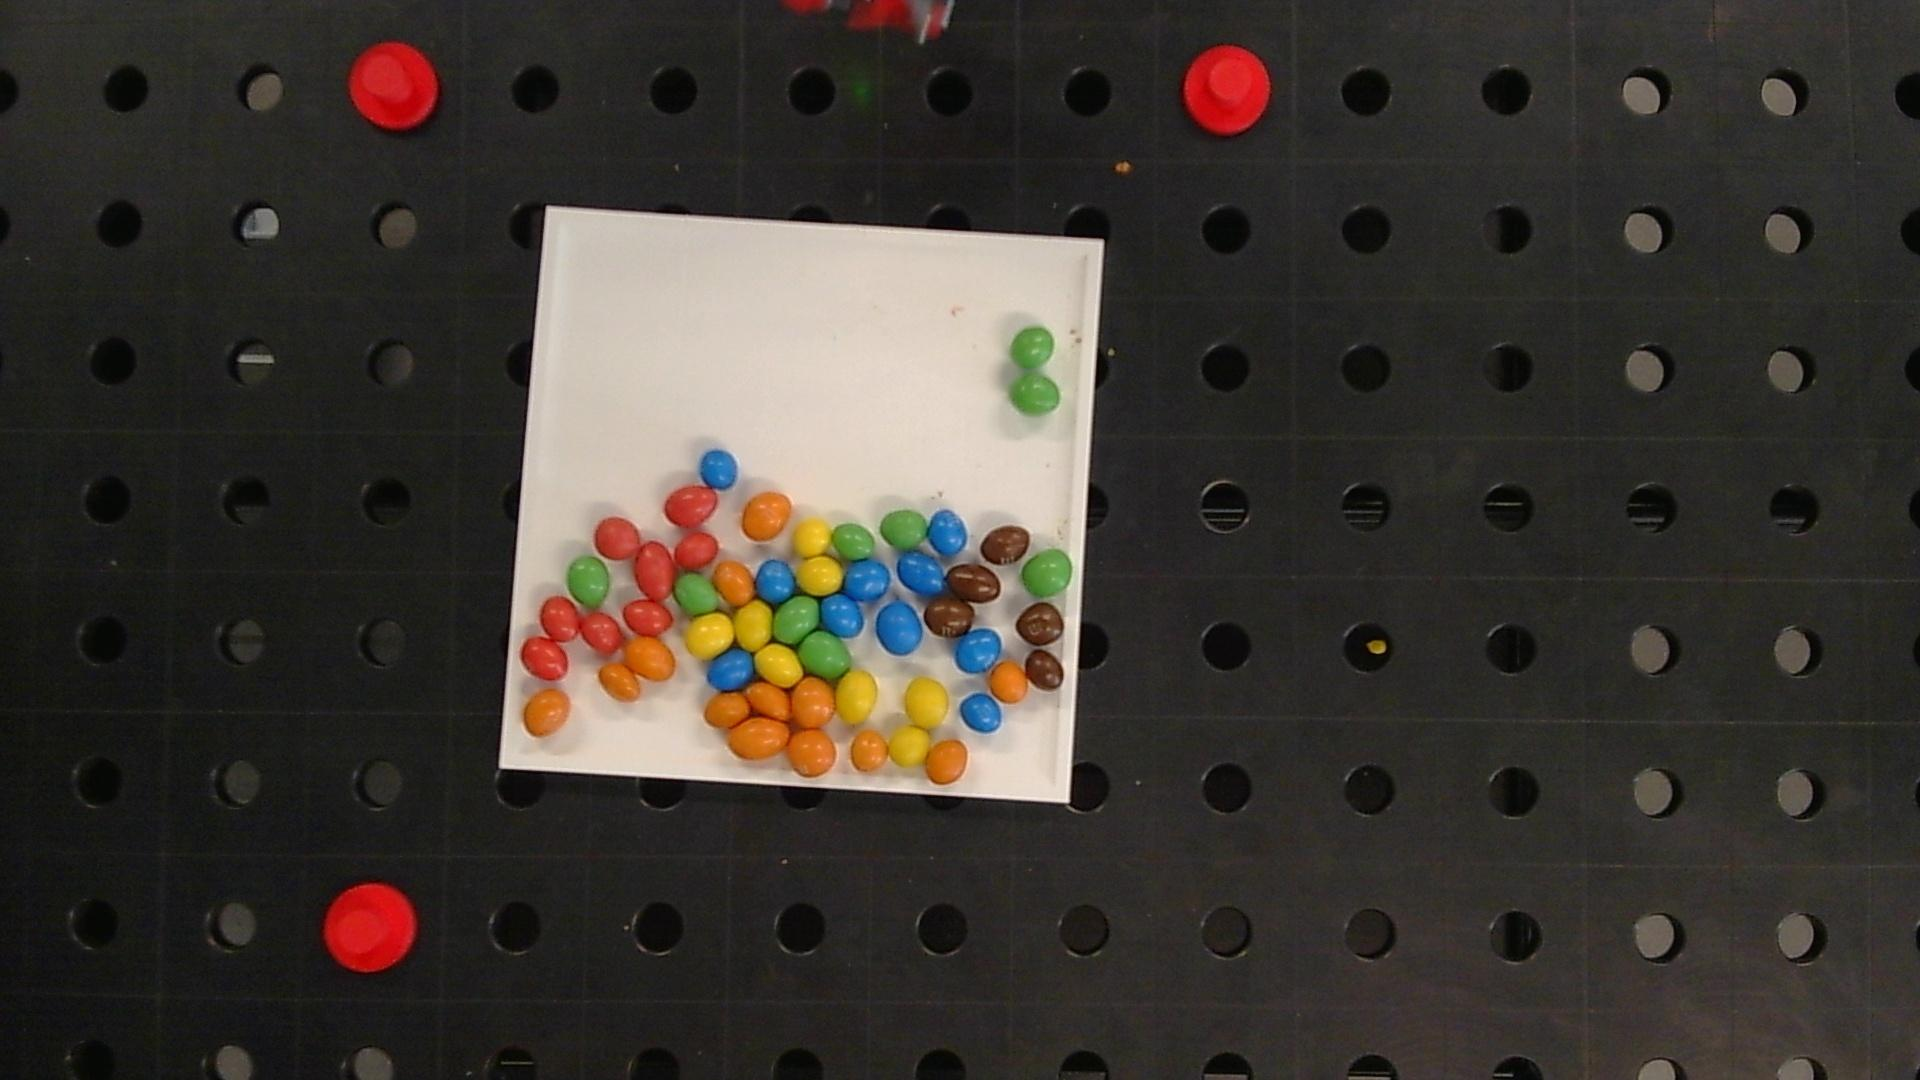blue: (877, 601, 923, 654), (955, 629, 1001, 674), (898, 553, 944, 595), (844, 559, 890, 601), (822, 593, 865, 637), (707, 650, 754, 690), (928, 509, 968, 554), (756, 559, 796, 601), (960, 694, 1002, 733), (700, 450, 738, 489)
brown: (1015, 603, 1064, 646), (948, 563, 1000, 603), (980, 525, 1030, 563), (924, 600, 975, 637), (1026, 651, 1064, 690)
green: (799, 632, 851, 678), (1022, 550, 1072, 596), (1010, 373, 1062, 415), (567, 556, 609, 607), (774, 596, 819, 642), (881, 509, 928, 549), (1010, 327, 1055, 368), (676, 574, 720, 613), (832, 522, 876, 560)
orange: (728, 717, 790, 758), (742, 492, 793, 539), (787, 729, 837, 775), (624, 637, 676, 680), (524, 690, 571, 736), (791, 678, 835, 728), (712, 560, 754, 604), (926, 740, 968, 783), (748, 680, 791, 719), (849, 729, 887, 771), (705, 692, 749, 729), (599, 662, 640, 700), (990, 661, 1029, 702)
red: (634, 541, 674, 600), (665, 485, 719, 526), (521, 637, 568, 680), (595, 517, 641, 558), (541, 596, 580, 641), (624, 600, 673, 634), (580, 613, 621, 653), (675, 531, 719, 568)
yellow: (905, 678, 949, 728), (836, 671, 877, 724), (686, 613, 733, 658), (735, 601, 771, 650), (735, 601, 771, 649), (887, 725, 930, 766), (757, 645, 800, 684), (799, 556, 843, 595), (793, 518, 832, 556)
